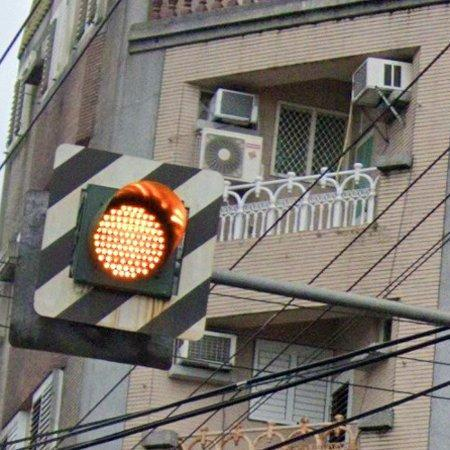traffic lights: (69, 178, 189, 299)
